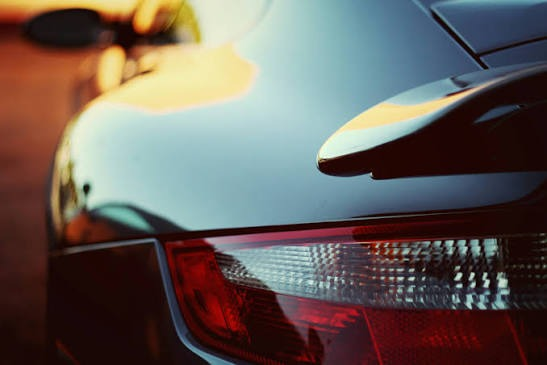car: (28, 1, 547, 349)
